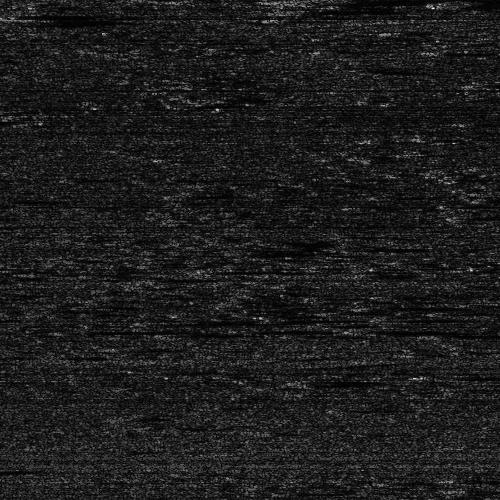object: (251, 0, 324, 19), (0, 6, 63, 21), (230, 0, 335, 4), (337, 327, 390, 332), (0, 14, 20, 27), (419, 0, 460, 5), (56, 328, 97, 331), (495, 264, 500, 269)
shadow: (288, 0, 500, 19), (17, 6, 155, 21), (0, 14, 81, 27), (283, 0, 500, 4), (364, 327, 488, 332), (77, 328, 208, 331), (439, 0, 500, 5), (0, 467, 34, 472)
